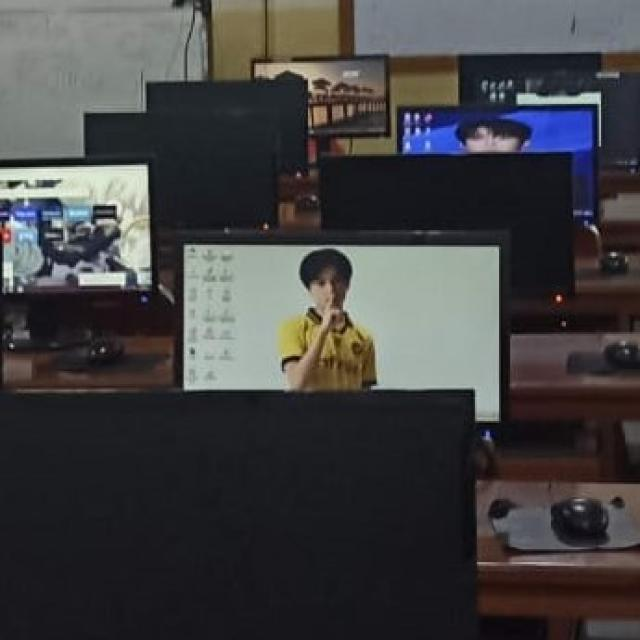offscreen: (0, 392, 471, 640), (321, 155, 574, 296), (85, 111, 280, 228), (148, 78, 308, 166)
onscreen: (184, 245, 498, 421), (399, 106, 596, 222), (460, 54, 639, 169), (254, 56, 386, 135)
